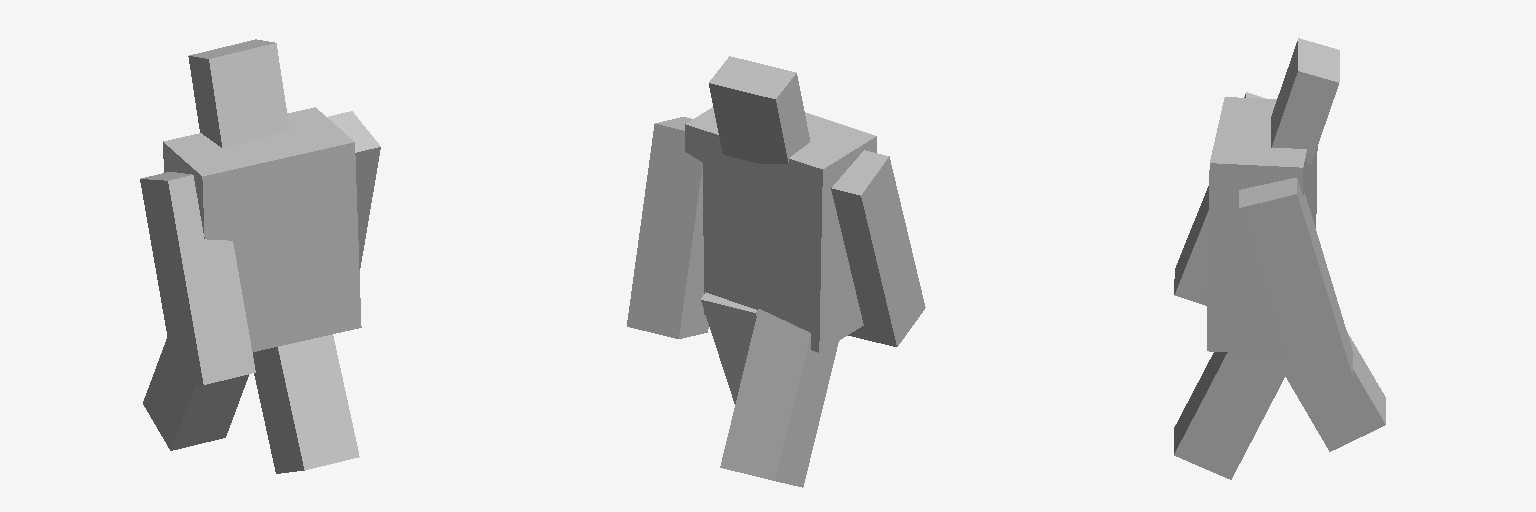
File: walk_000007.obj
3 views of the same model, side by side, from view 1: azimuth 30°, elevation 25°; view 2: azimuth 150°, elevation 25°; view 3: azimuth 270°, elevation 25° (orthographic).
Parts seen in each view (by area): view 1: Cube, leg.003_Cube.002, leg.001_Cube.007, Cube.001_Cube.003, leg_Cube.001, leg.002_Cube.006; view 2: Cube, leg_Cube.001, leg.002_Cube.006, leg.003_Cube.002, Cube.001_Cube.003, leg.001_Cube.007, Plane.002; view 3: Cube, leg.002_Cube.006, leg.001_Cube.007, Cube.001_Cube.003, leg_Cube.001, leg.003_Cube.002.
Boxes of the visible parts, x1,y1,x2,y2 form: Cube: [163, 107, 361, 351]; leg.003_Cube.002: [140, 172, 255, 384]; leg.001_Cube.007: [254, 334, 359, 473]; Cube.001_Cube.003: [188, 39, 289, 147]; leg_Cube.001: [143, 337, 257, 450]; leg.002_Cube.006: [327, 111, 380, 269]; Cube: [685, 107, 876, 352]; leg_Cube.001: [720, 309, 838, 487]; leg.002_Cube.006: [627, 117, 708, 338]; leg.003_Cube.002: [831, 150, 925, 346]; Cube.001_Cube.003: [709, 56, 809, 163]; leg.001_Cube.007: [701, 292, 757, 403]; Plane.002: [729, 127, 776, 161]; Cube: [1207, 97, 1317, 354]; leg.002_Cube.006: [1239, 178, 1352, 390]; leg.001_Cube.007: [1174, 352, 1287, 479]; Cube.001_Cube.003: [1271, 38, 1339, 164]; leg_Cube.001: [1286, 332, 1385, 451]; leg.003_Cube.002: [1174, 92, 1265, 305].
Bounding box in the file's own units: 3.48 × 6.31 × 3.05.